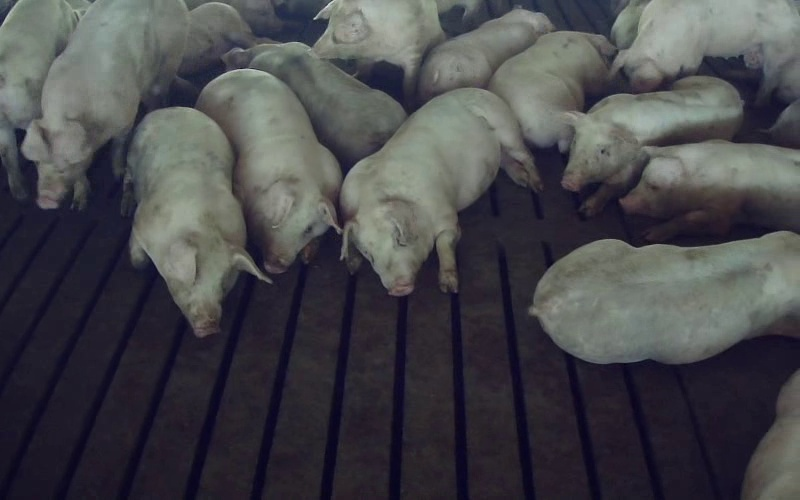pig: (340, 88, 541, 295), (530, 231, 799, 363), (122, 107, 270, 336), (196, 70, 341, 273), (562, 76, 742, 215), (223, 42, 406, 168), (613, 0, 799, 101), (620, 140, 799, 240), (313, 0, 444, 108), (418, 9, 554, 102)
